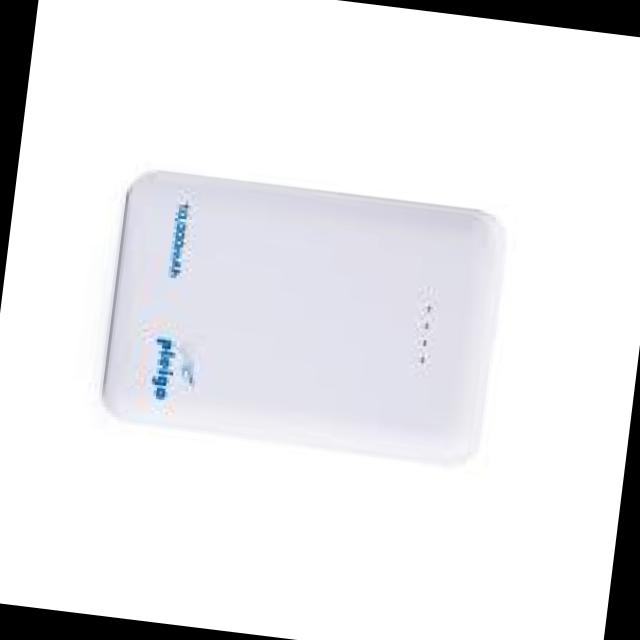portable-charger: (92, 164, 520, 471)
